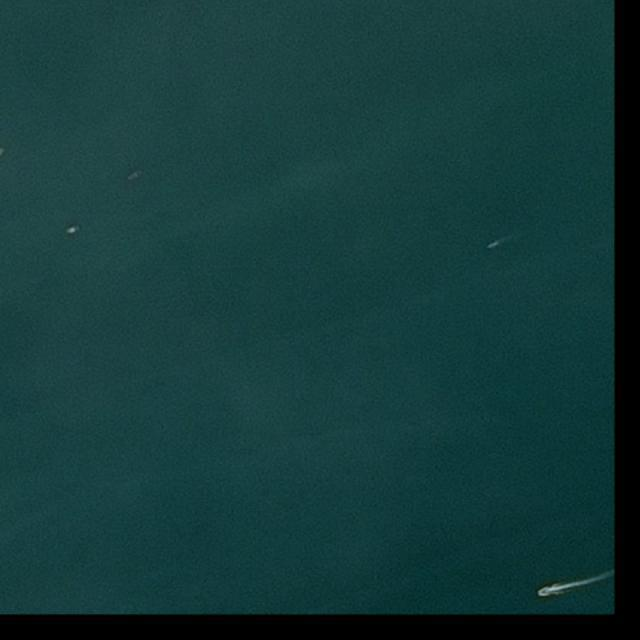ship: (128, 170, 144, 184), (66, 225, 81, 237), (487, 241, 500, 250), (538, 589, 550, 595)
